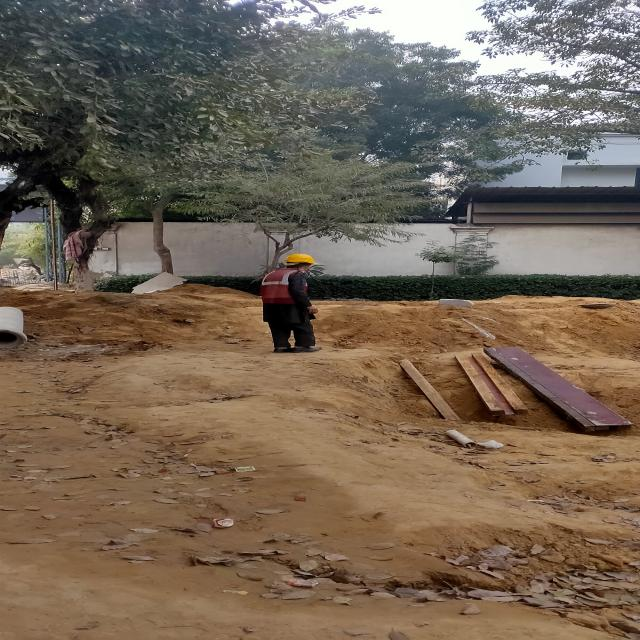safe: (258, 252, 321, 354)
